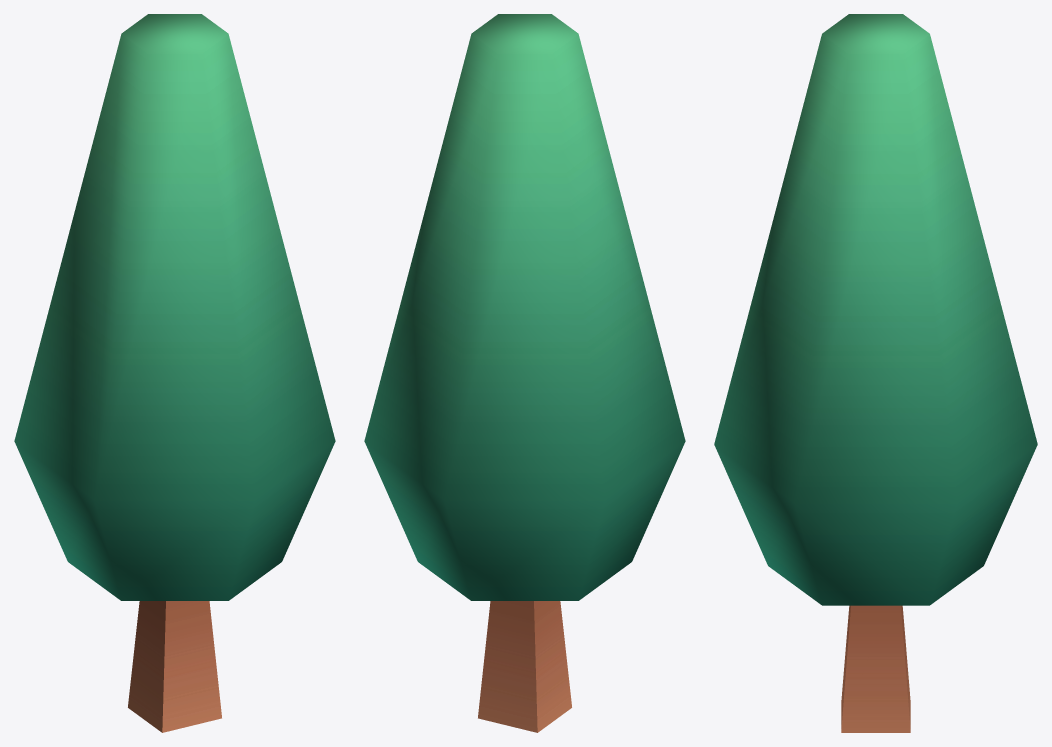
File: tree_suburban_small.glb
3 renders of one model, left to right at view 1: azimuth 30°, elevation 25°; view 2: azimuth 150°, elevation 25°; view 3: azimuth 270°, elevation 25°, orthographic.
Parts seen in each view (by area): view 1: tree-small; view 2: tree-small; view 3: tree-small.
Part boxes in pixels (box(x1,y1,x2,y2)): tree-small: box(14, 14, 335, 732); tree-small: box(364, 14, 685, 732); tree-small: box(714, 14, 1037, 732).
Bounding box in the file's own units: 1.68 × 4.54 × 1.94.
Materials: 1 (1 with a texture image).
